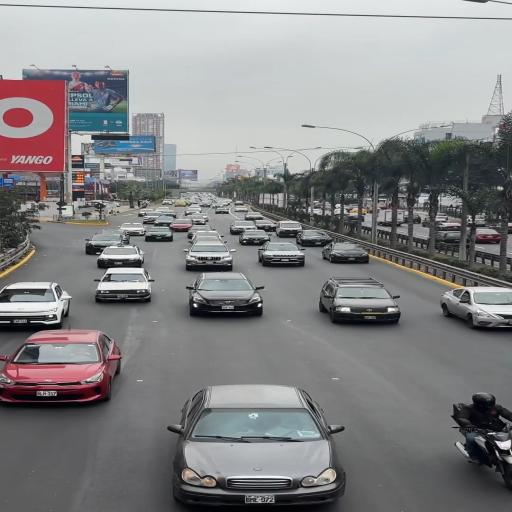auto: (175, 385, 341, 502), (0, 328, 120, 397), (317, 277, 398, 323), (0, 280, 73, 327), (186, 272, 264, 315), (440, 286, 511, 330), (94, 266, 155, 302), (182, 238, 237, 272), (94, 243, 148, 268), (256, 241, 307, 267), (322, 242, 372, 264), (84, 231, 129, 254), (294, 229, 333, 246), (237, 228, 273, 246), (189, 230, 226, 247), (143, 226, 175, 242), (228, 220, 258, 236), (274, 221, 304, 237), (472, 229, 502, 244), (118, 222, 146, 238), (432, 230, 464, 244), (421, 216, 457, 228), (168, 218, 195, 231), (252, 219, 278, 232), (243, 212, 264, 220)
camion: (441, 386, 512, 484)
